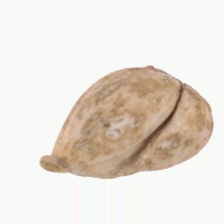L1: (155, 67, 205, 99), (38, 150, 84, 176)
L2: (38, 66, 213, 180)
